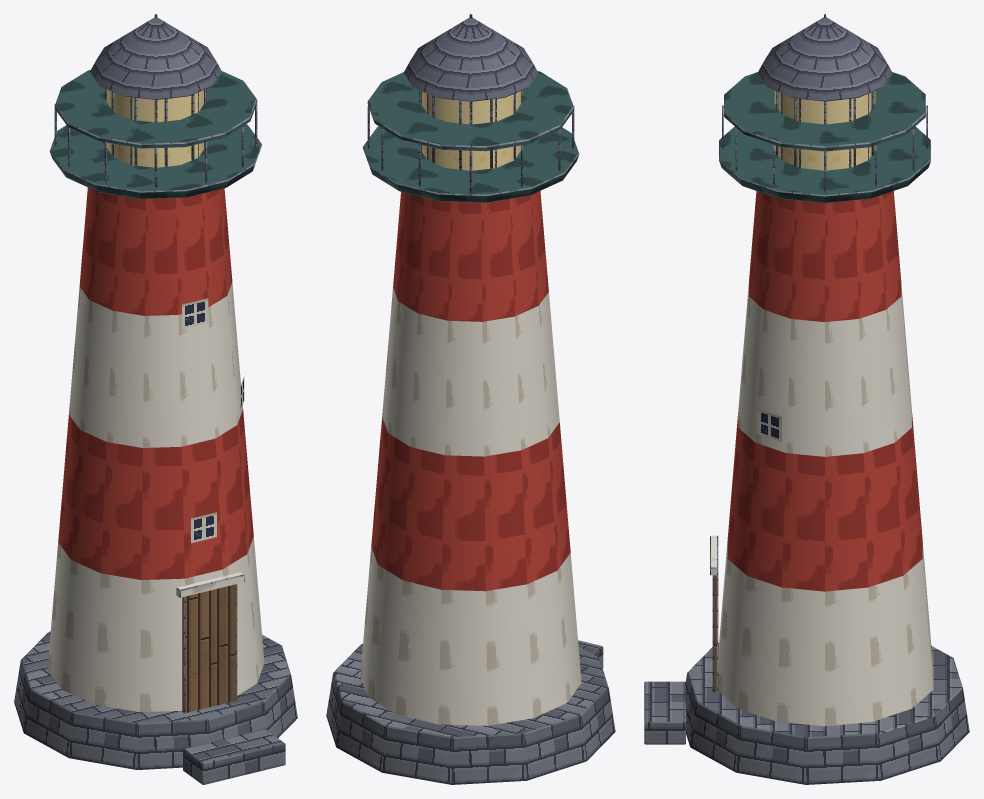
The model's file is lighthouse_1.glb.
3 views of the same model, side by side, from view 1: azimuth 30°, elevation 25°; view 2: azimuth 150°, elevation 25°; view 3: azimuth 270°, elevation 25° (orthographic).
Parts seen in each view (by area): view 1: lighthouse_2; view 2: lighthouse_2; view 3: lighthouse_2.
Boxes of the visible parts, <box> form: lighthouse_2: <box>14,14,297,784</box>; lighthouse_2: <box>326,14,615,784</box>; lighthouse_2: <box>644,14,969,784</box>.
Bounding box in the file's own units: 4.14 × 11.2 × 4.66.
10 materials, 10 textured.
